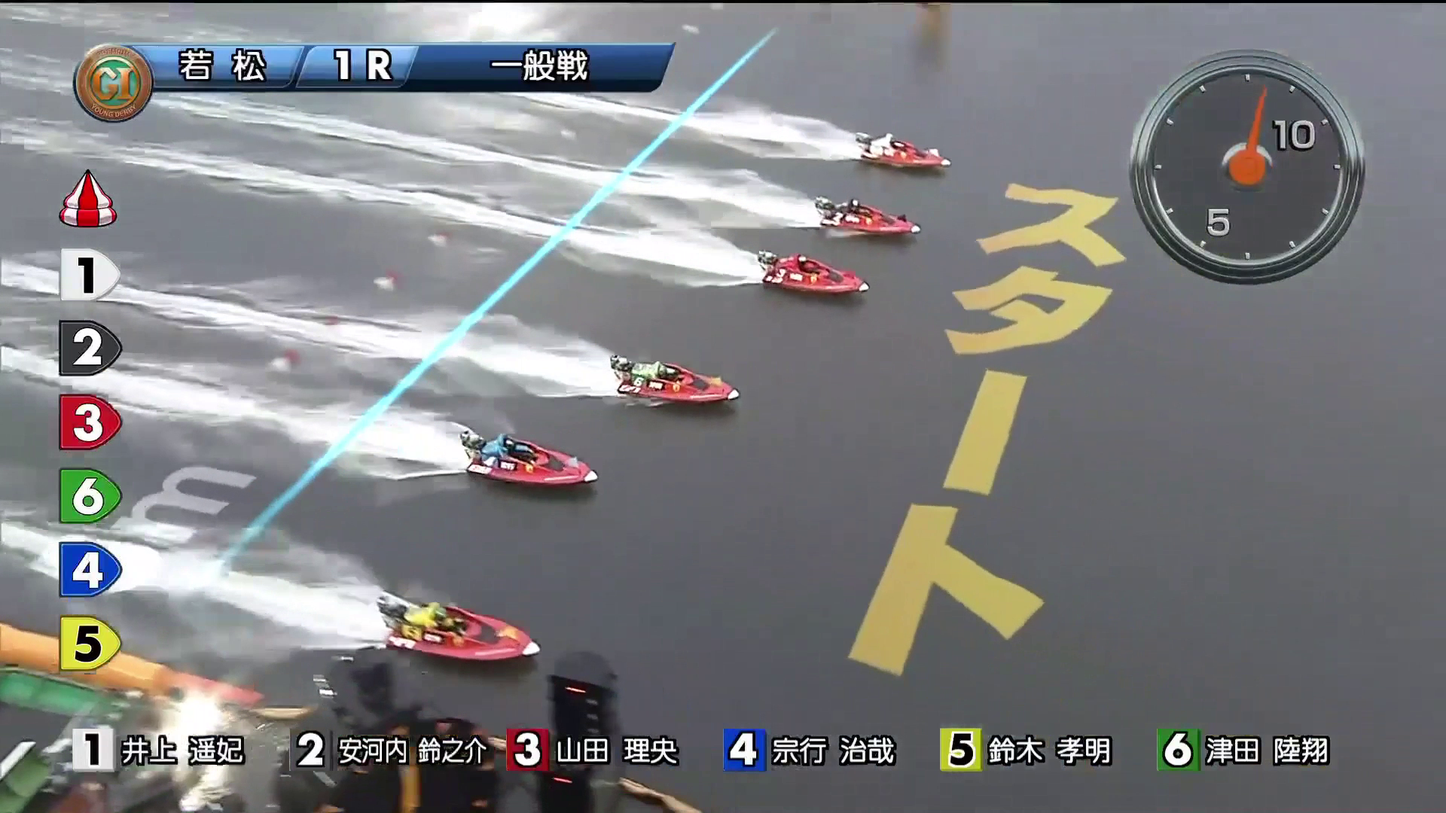１号艇: (821, 151, 901, 197)
２号艇: (843, 214, 905, 251)
３号艇: (789, 263, 844, 304)
４号艇: (643, 364, 708, 407)
５号艇: (505, 457, 574, 495)
６号艇: (446, 625, 511, 672)
